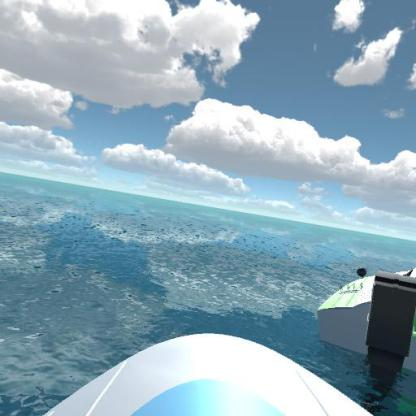usv0: (306, 256, 415, 379)
